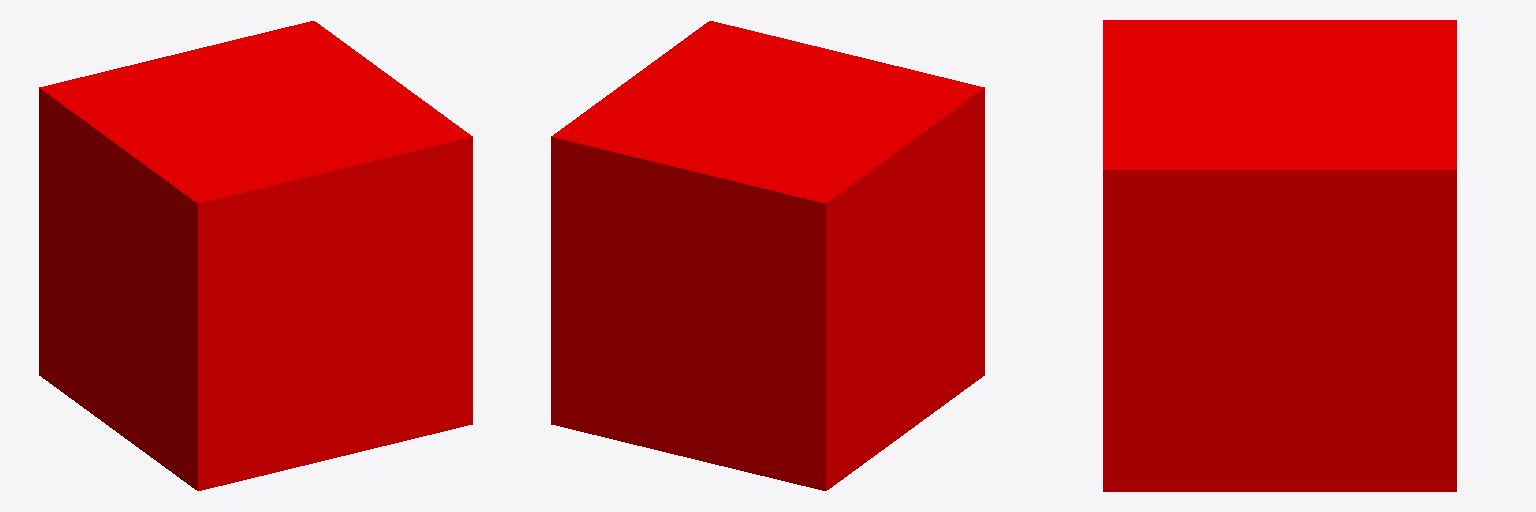
robot.urdf — fetch:
<?xml version="1.0"?>
<robot name="fetch">
  <link name="base_link">
    <inertial>
      <origin rpy="0 0 0" xyz="-0.0036 0.0 0.0014" />
      <mass value="70.1294" />
      <inertia ixx="1.225" ixy="0.0099" ixz="0.0062" iyy="1.2853" iyz="-0.0034" izz="0.987" />
    </inertial>
    <visual>
      <origin rpy="0 0 0" xyz="0 0 0" />
      <geometry>
        <mesh filename="../meshes/base_link.dae" />
      </geometry>
      <material name="mat0">
        <color rgba="0.356 0.361 0.376 1" />
      </material>
    </visual>
    <!-- <collision>
      <origin rpy="0 0 0" xyz="0 0 0.2" />
      <geometry>
        <cylinder length="0.32" radius="0.285"/>
      </geometry>
    </collision>
    <collision>
      <origin rpy="1.56 0 0" xyz="0.1655 0.12 0.0325" />
      <geometry>
        <cylinder length="0.03" radius="0.03"/>
      </geometry>
    </collision>
    <collision>
      <origin rpy="1.56 0 0" xyz="0.1655 -0.12 0.0325" />
      <geometry>
        <cylinder length="0.03" radius="0.03"/>
      </geometry>
    </collision>
    <collision>
      <origin rpy="1.56 0 0" xyz="-0.21 0.12 0.0325" />
      <geometry>
        <cylinder length="0.03" radius="0.03"/>
      </geometry>
    </collision>
    <collision>
      <origin rpy="1.56 0 0" xyz="-0.21 -0.12 0.0325" />
      <geometry>
        <cylinder length="0.03" radius="0.03"/>
      </geometry>
    </collision> -->
  </link>
  <!-- <link name="torso_lift_link">
    <inertial>
      <origin rpy="0 0 0" xyz="-0.0013 -0.0009 0.2935" />
      <mass value="10.7796" />
      <inertia ixx="0.3354" ixy="0.0" ixz="-0.0162" iyy="0.3354" iyz="-0.0006" izz="0.0954" />
    </inertial>
    <visual>
      <origin rpy="0 0 0" xyz="0 0 0" />
      <geometry>
        <mesh filename="../meshes/torso_lift_link.dae" />
      </geometry>
      <material name="math3">
        <color rgba="1 1 1 1" />
      </material>
    </visual>
    <collision>
      <origin rpy="0 0 0" xyz="-0.06 0.0 0.3" />
      <geometry>
        <box size="0.246 0.347 0.573"/>
      </geometry>
    </collision>
  </link> -->
  <!-- <joint name="torso_lift_joint" type="fixed">
    <origin rpy="-6.123E-17 0 0" xyz="-0.086875 0 0.52743" />
    <parent link="base_link" />
    <child link="torso_lift_link" />
  </joint> -->
  <link name="shoulder_pan_link">
    <inertial>
      <origin rpy="0 0 0" xyz="0.0927 -0.0056 0.0564" />
      <mass value="2.5587" />
      <inertia ixx="0.0043" ixy="-0.0001" ixz="0.001" iyy="0.0087" iyz="-0.0001" izz="0.0087" />
    </inertial>
    <visual>
      <origin rpy="0 0 0" xyz="0 0 0" />
      <geometry>
        <mesh filename="../meshes/shoulder_pan_link.dae" />
      </geometry>
      <material name="6">
        <color rgba="1 1 1 1" />
      </material>
    </visual>
  </link>
  <joint name="shoulder_pan_joint" type="revolute">
    <!-- <origin rpy="0 0 0" xyz="0.119525 0 0.34858" />
    <parent link="torso_lift_link" /> -->
    <origin rpy="0 0 0" xyz="0.03265 0 0.87601" />
    <parent link="base_link" />
    <child link="shoulder_pan_link" />
    <axis xyz="0 0 1" />
    <dynamics damping="1.0" />
    <limit effort="33.82" lower="-1.6056" upper="1.6056" velocity="1.256" />
  </joint>
  <link name="shoulder_lift_link">
    <inertial>
      <origin rpy="0 0 0" xyz="0.1432 0.0072 -0.0001" />
      <mass value="2.6615" />
      <inertia ixx="0.0028" ixy="-0.0021" ixz="-0.0" iyy="0.0111" iyz="-0.0" izz="0.0112" />
    </inertial>
    <visual>
      <origin rpy="0 0 0" xyz="0 0 0" />
      <geometry>
        <mesh filename="../meshes/shoulder_lift_link.dae" />
      </geometry>
      <material name="7">
        <color rgba="0.086 0.506 0.767 1" />
      </material>
    </visual>
    <collision>
      <origin rpy="0 0 0" xyz="0 0 0" />
      <geometry>
        <mesh filename="../meshes/shoulder_lift_link_collision.obj" />
      </geometry>
    </collision>
  </link>
  <joint name="shoulder_lift_joint" type="revolute">
    <origin rpy="0 0 0" xyz="0.117 0 0.0599999999999999" />
    <parent link="shoulder_pan_link" />
    <child link="shoulder_lift_link" />
    <axis xyz="0 1 0" />
    <dynamics damping="1.0" />
    <limit effort="131.76" lower="-1.221" upper="1.518" velocity="1.454" />
  </joint>
  <link name="upperarm_roll_link">
    <inertial>
      <origin rpy="0 0 0" xyz="0.1165 0.0014 0.0000" />
      <mass value="2.3311" />
      <inertia ixx="0.0019" ixy="-0.0001" ixz="0.0" iyy="0.0045" iyz="0.0" izz="0.0047" />
    </inertial>
    <visual>
      <origin rpy="0 0 0" xyz="0 0 0" />
      <geometry>
        <mesh filename="../meshes/upperarm_roll_link.dae" />
      </geometry>
      <material name="8">
        <color rgba="1 1 1 1" />
      </material>
    </visual>
    <collision>
      <origin rpy="0 0 0" xyz="0 0 0" />
      <geometry>
        <mesh filename="../meshes/upperarm_roll_link_collision.obj" />
      </geometry>
    </collision>
  </link>
  <joint name="upperarm_roll_joint" type="continuous">
    <origin rpy="0 0 0" xyz="0.219 0 0" />
    <parent link="shoulder_lift_link" />
    <child link="upperarm_roll_link" />
    <axis xyz="1 0 0" />
    <dynamics damping="5.0" />
    <limit effort="76.94" velocity="1.571" />
  </joint>
  <link name="elbow_flex_link">
    <inertial>
      <origin rpy="0 0 0" xyz="0.1279 0.0073 0.0000" />
      <mass value="2.1299" />
      <inertia ixx="0.0024" ixy="-0.0016" ixz="0.0" iyy="0.0082" iyz="-0.0" izz="0.0084" />
    </inertial>
    <visual>
      <origin rpy="0 0 0" xyz="0 0 0" />
      <geometry>
        <mesh filename="../meshes/elbow_flex_link.dae" />
      </geometry>
      <material name="9">
        <color rgba="0.086 0.506 0.767 1" />
      </material>
    </visual>
    <collision>
      <origin rpy="0 0 0" xyz="0 0 0" />
      <geometry>
        <mesh filename="../meshes/elbow_flex_link_collision.obj" />
      </geometry>
    </collision>
  </link>
  <joint name="elbow_flex_joint" type="revolute">
    <origin rpy="0 0 0" xyz="0.133 0 0" />
    <parent link="upperarm_roll_link" />
    <child link="elbow_flex_link" />
    <axis xyz="0 1 0" />
    <dynamics damping="1.0" />
    <limit effort="66.18" lower="-2.251" upper="2.251" velocity="1.521" />
  </joint>
  <link name="forearm_roll_link">
    <inertial>
      <origin rpy="0 0 0" xyz="0.1097 -0.0266 0.0000" />
      <mass value="1.6563" />
      <inertia ixx="0.0016" ixy="-0.0003" ixz="0.0" iyy="0.003" iyz="-0.0" izz="0.0035" />
    </inertial>
    <visual>
      <origin rpy="0 0 0" xyz="0 0 0" />
      <geometry>
        <mesh filename="../meshes/forearm_roll_link.dae" />
      </geometry>
      <material name="10">
        <color rgba="1 1 1 1" />
      </material>
    </visual>
    <collision>
      <origin rpy="0 0 0" xyz="0 0 0" />
      <geometry>
        <mesh filename="../meshes/forearm_roll_link_collision.obj" />
      </geometry>
    </collision>
  </link>
  <joint name="forearm_roll_joint" type="continuous">
    <origin rpy="0 0 0" xyz="0.197 0 0" />
    <parent link="elbow_flex_link" />
    <child link="forearm_roll_link" />
    <axis xyz="1 0 0" />
    <dynamics damping="5.0" />
    <limit effort="29.35" velocity="1.571" />
  </joint>
  <link name="wrist_flex_link">
    <inertial>
      <origin rpy="0 0 0" xyz="0.0882 0.0009 -0.0001" />
      <mass value="1.725" />
      <inertia ixx="0.0018" ixy="-0.0001" ixz="-0.0" iyy="0.0042" iyz="0.0" izz="0.0042" />
    </inertial>
    <visual>
      <origin rpy="0 0 0" xyz="0 0 0" />
      <geometry>
        <mesh filename="../meshes/wrist_flex_link.dae" />
      </geometry>
      <material name="11">
        <color rgba="0.086 0.506 0.767 1" />
      </material>
    </visual>
    <collision>
      <origin rpy="0 0 0" xyz="0 0 0" />
      <geometry>
        <mesh filename="../meshes/wrist_flex_link_collision.obj" />
      </geometry>
    </collision>
  </link>
  <joint name="wrist_flex_joint" type="revolute">
    <origin rpy="0 0 0" xyz="0.1245 0 0" />
    <parent link="forearm_roll_link" />
    <child link="wrist_flex_link" />
    <axis xyz="0 1 0" />
    <dynamics damping="1.0" />
    <limit effort="25.7" lower="-2.16" upper="2.16" velocity="2.268" />
  </joint>
  <link name="wrist_roll_link">
    <inertial>
      <origin rpy="0 0 0" xyz="0.0095 0.0004 -0.0002" />
      <mass value="0.1354" />
      <inertia ixx="0.0001" ixy="0.0" ixz="0.0" iyy="0.0001" iyz="0.0" izz="0.0001" />
    </inertial>
    <visual>
      <origin rpy="0 0 0" xyz="0 0 0" />
      <geometry>
        <mesh filename="../meshes/wrist_roll_link.dae" />
      </geometry>
      <material name="12">
        <color rgba="1 1 1 1" />
      </material>
    </visual>
    <collision>
      <origin rpy="0 0 0" xyz="0 0 0" />
      <geometry>
        <mesh filename="../meshes/wrist_roll_link_collision.obj" />
      </geometry>
    </collision>
  </link>
  <joint name="wrist_roll_joint" type="continuous">
    <origin rpy="0 0 0" xyz="0.1385 0 0" />
    <parent link="wrist_flex_link" />
    <child link="wrist_roll_link" />
    <axis xyz="1 0 0" />
    <limit effort="7.36" velocity="2.268" />
    <dynamics damping="5.0" />
  </joint>
  <link name="gripper_link">
    <inertial>
      <origin rpy="0 0 0" xyz="-0.0900 -0.0001 -0.0017" />
      <mass value="1.5175" />
      <inertia ixx="0.0013" ixy="-0.0" ixz="0.0" iyy="0.0019" iyz="-0.0" izz="0.0024" />
    </inertial>
    <visual>
      <origin rpy="0 0 0" xyz="0 0 0" />
      <geometry>
        <mesh filename="../meshes/gripper_link.dae" />
      </geometry>
    </visual>
    <collision>
      <origin rpy="0 0 0" xyz="0 0 0" />
      <geometry>
        <mesh filename="../meshes/gripper_link_collision.obj" />
      </geometry>
    </collision>
  </link>
  <joint name="gripper_axis" type="fixed">
    <origin rpy="0 0 0" xyz="0.16645 0 0" />
    <parent link="wrist_roll_link" />
    <child link="gripper_link" />
    <axis xyz="0 1 0" />
  </joint>
  <link name="suction_link">
    <inertial>
      <origin rpy="0 0 0" xyz="0 0 0" />
      <mass value="0.0798" />
      <inertia ixx="0.002" ixy="0" ixz="0" iyy="0" iyz="0" izz="0" />
    </inertial>
    <visual>
      <origin rpy="0 0 0" xyz="0 0.0 0" />
      <geometry>
        <box size="0.01 0.01 0.01" />
      </geometry>
      <material name="19">
        <color rgba="1.0 0.0 0.0 1" />
      </material>
    </visual>
    <collision>
      <origin rpy="0 0 0" xyz="0.0 0.0 0.0" />
      <geometry>
        <box size="0.04 0.04 0.01" />
      </geometry>
    </collision>
  </link>
  <joint name="suction_joint" type="prismatic">
    <origin rpy="0 0 0" xyz="0.0 0.0 0.035" />
    <parent link="gripper_link" />
    <child link="suction_link" />
    <axis xyz="0 1 0" />
    <limit effort="60" lower="0.0" upper="0.00" velocity="0.05" />
    <dynamics damping="100.0" />
  </joint>
</robot>

--- Facts derived from the render (not from the file) ---
Views: 3 orthographic renders of the robot side by side, from view 1: azimuth 30°, elevation 25°; view 2: azimuth 150°, elevation 25°; view 3: azimuth 270°, elevation 25°.
Robot: fetch — 10 links, 9 joints (4 revolute, 3 continuous, 1 prismatic, 1 fixed); root link base_link; default pose: all joints at 0.
Visible links, largest first — view 1: suction_link; view 2: suction_link; view 3: suction_link.
Link boxes in pixels (x1=…): suction_link: x1=39, y1=21, x2=472, y2=490; suction_link: x1=551, y1=21, x2=984, y2=490; suction_link: x1=1103, y1=20, x2=1456, y2=491.
Bounding box of the posed robot: 0.01 × 0.01 × 0.01 m (x, y, z).
Meshes: 9 distinct files referenced, 0 mesh visuals loaded (none loaded); not drawn: 9 (reference not matched to a file when rendering).